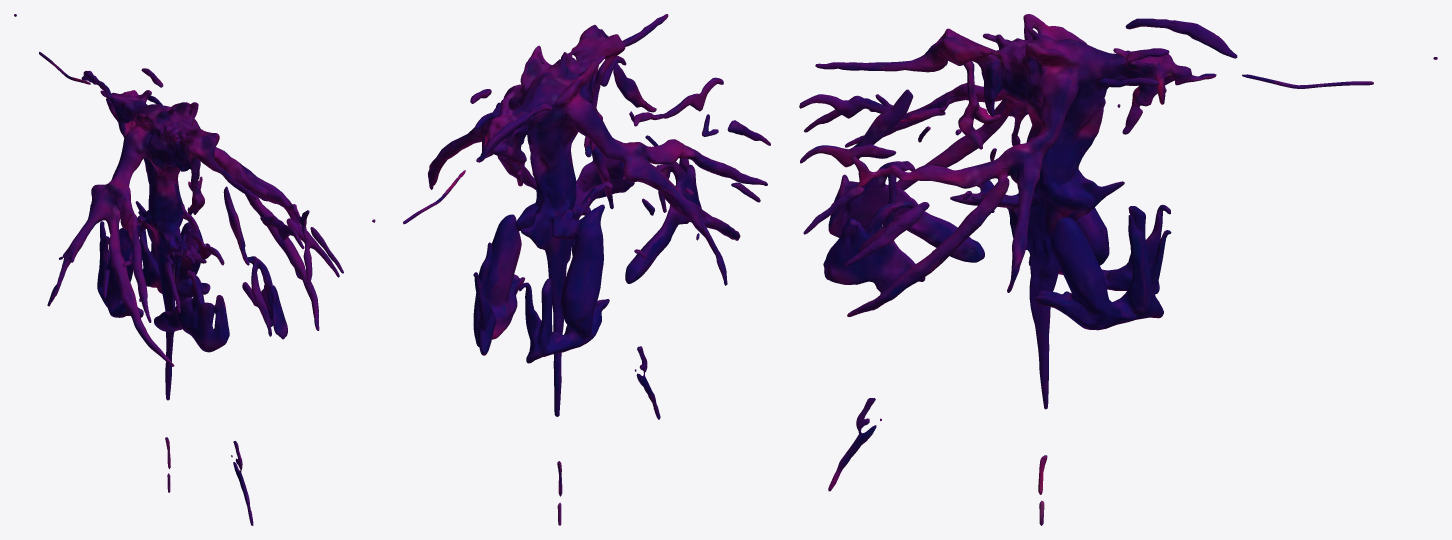
File: riftshard_a.glb
3 views of the same model, side by side, from view 1: azimuth 30°, elevation 25°; view 2: azimuth 150°, elevation 25°; view 3: azimuth 270°, elevation 25° (orthographic). The views are drawn at different scales.
Parts seen in each view (by area): view 1: riftshard_a; view 2: riftshard_a; view 3: riftshard_a.
Boxes of the visible parts, bbox=[...] form: riftshard_a: bbox=[14, 14, 343, 525]; riftshard_a: bbox=[372, 14, 770, 525]; riftshard_a: bbox=[799, 14, 1437, 525].
Size of the model in its own units: 1.09 by 1.62 by 1.89.
1 material, 1 textured.
